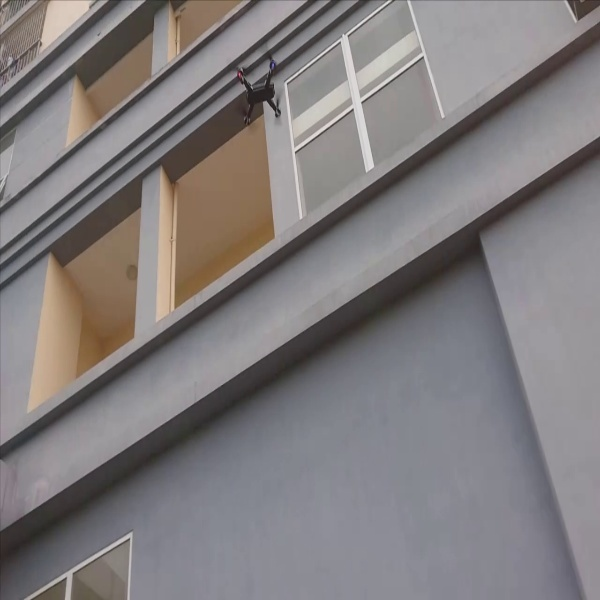drone: (220, 49, 289, 127)
